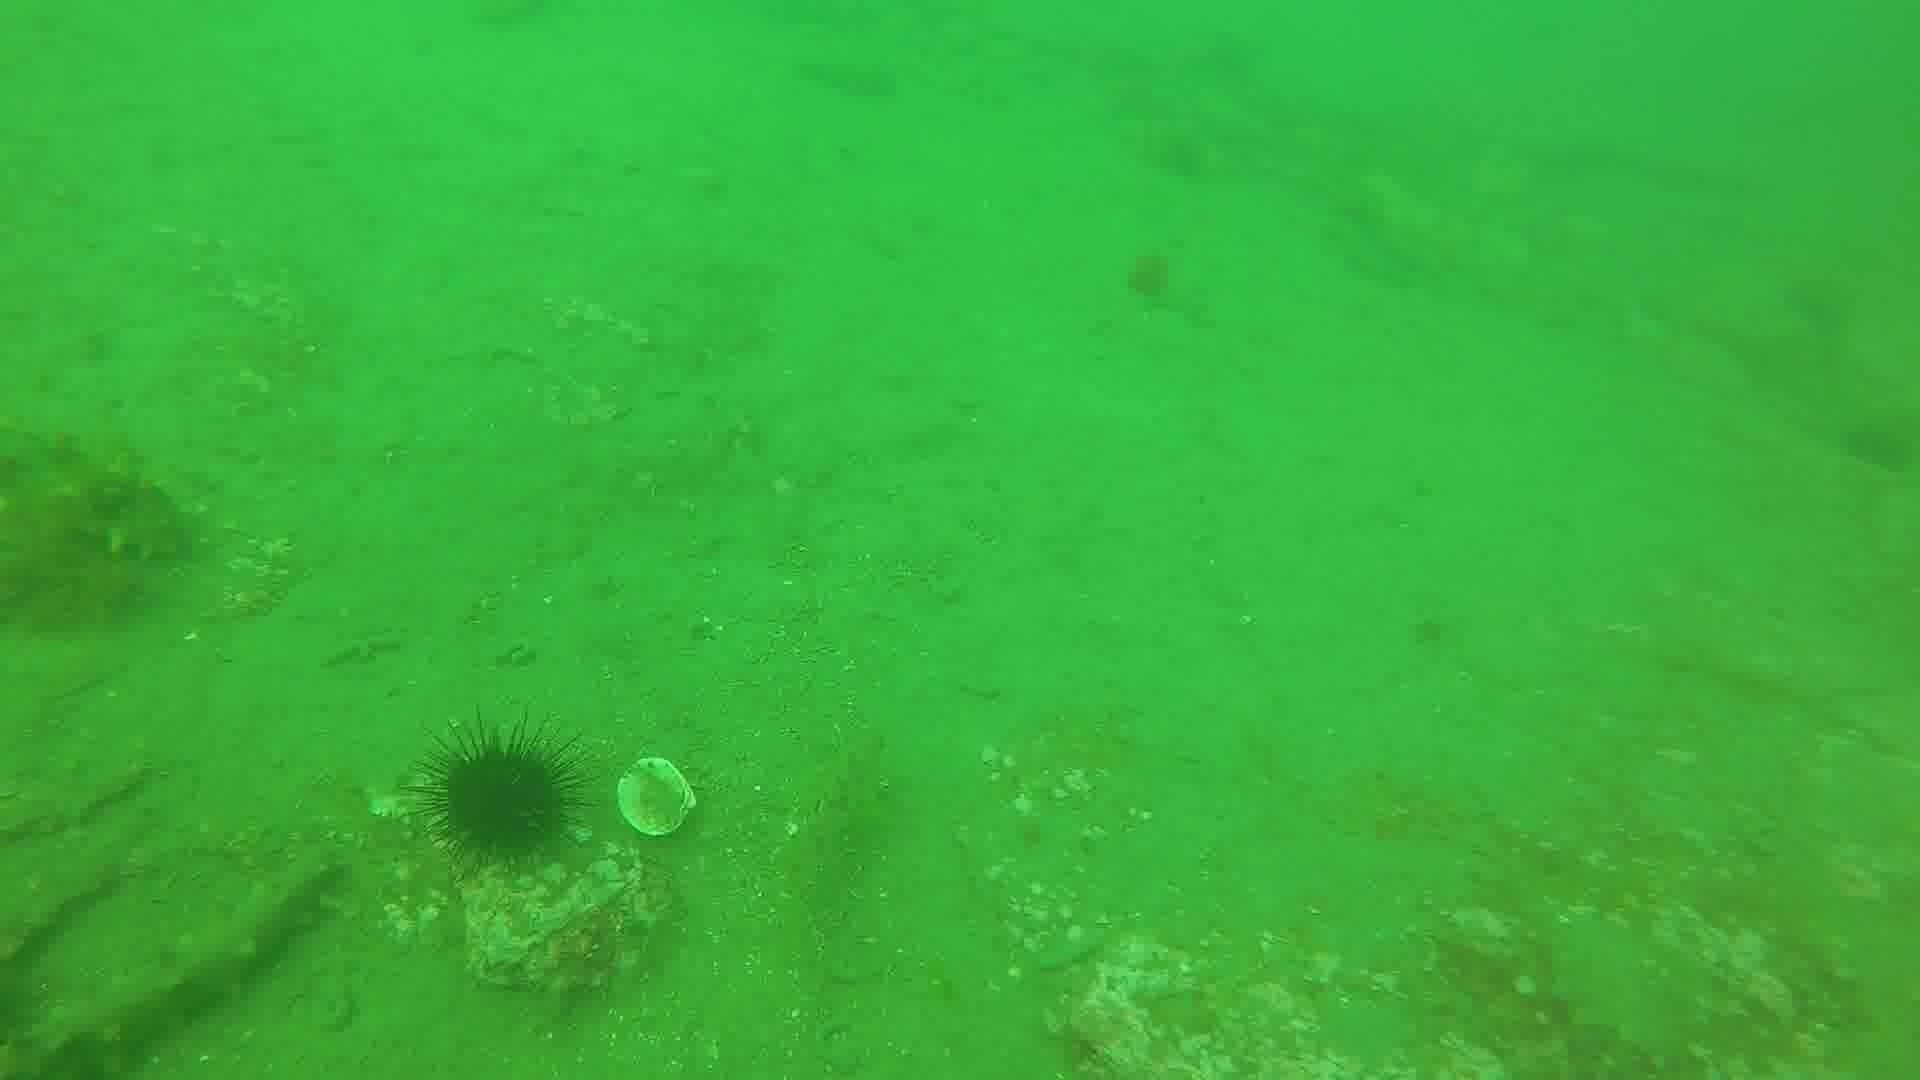echinus: (410, 717, 585, 872)
holothurian: (12, 839, 347, 1073), (4, 422, 204, 572)
